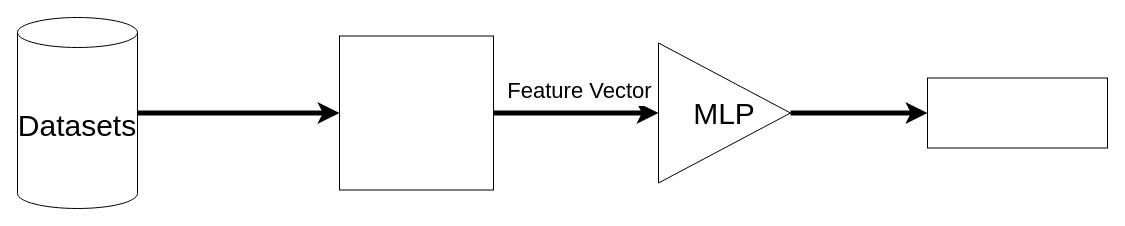
This 1125x226 diagram has some shape labels left out. Each missing label, with the centre of its shape:
GNN Models: (x=416, y=112)
Prediction: (x=1017, y=112)
